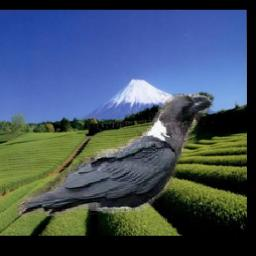Crow: (17, 94, 211, 217)
